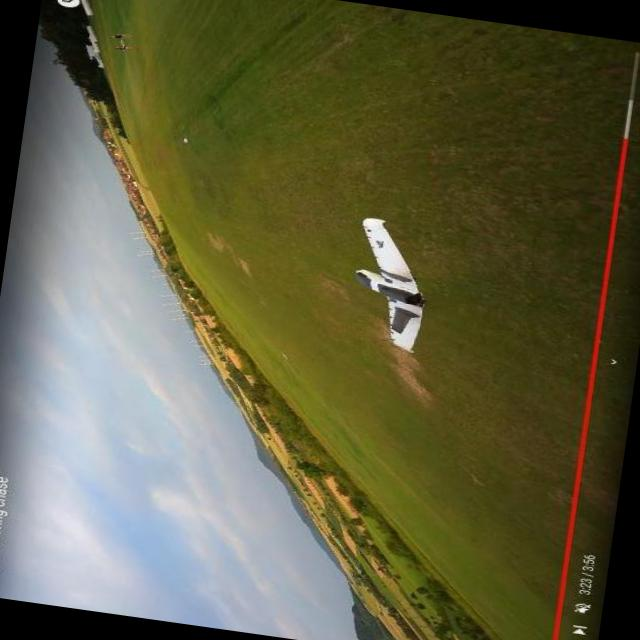UAV: (344, 189, 460, 380)
